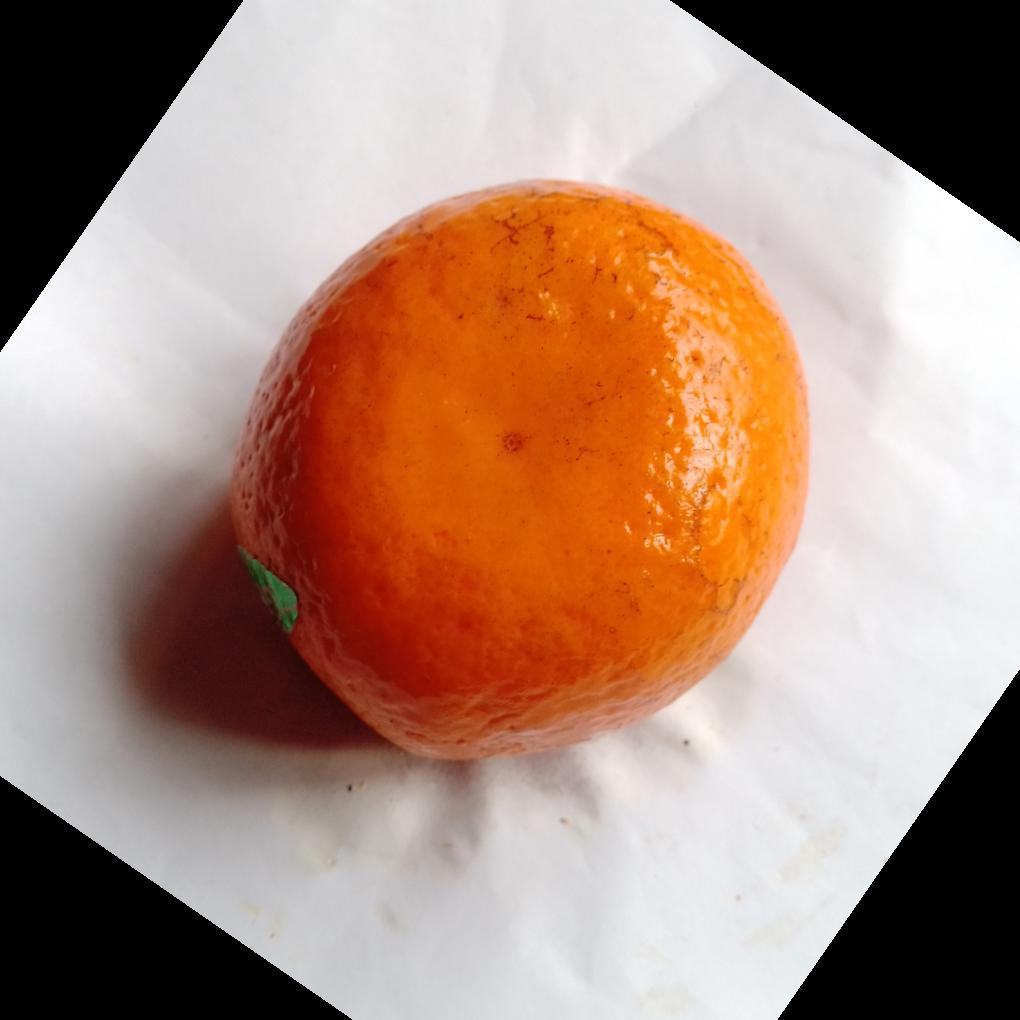FreshOrange: (226, 178, 813, 767)
